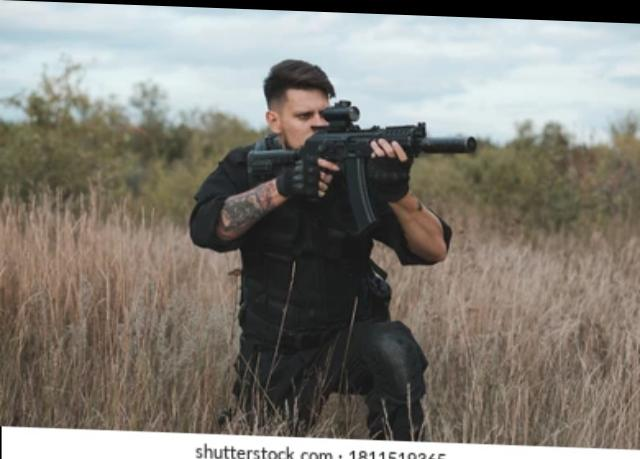other: (194, 52, 423, 413)
